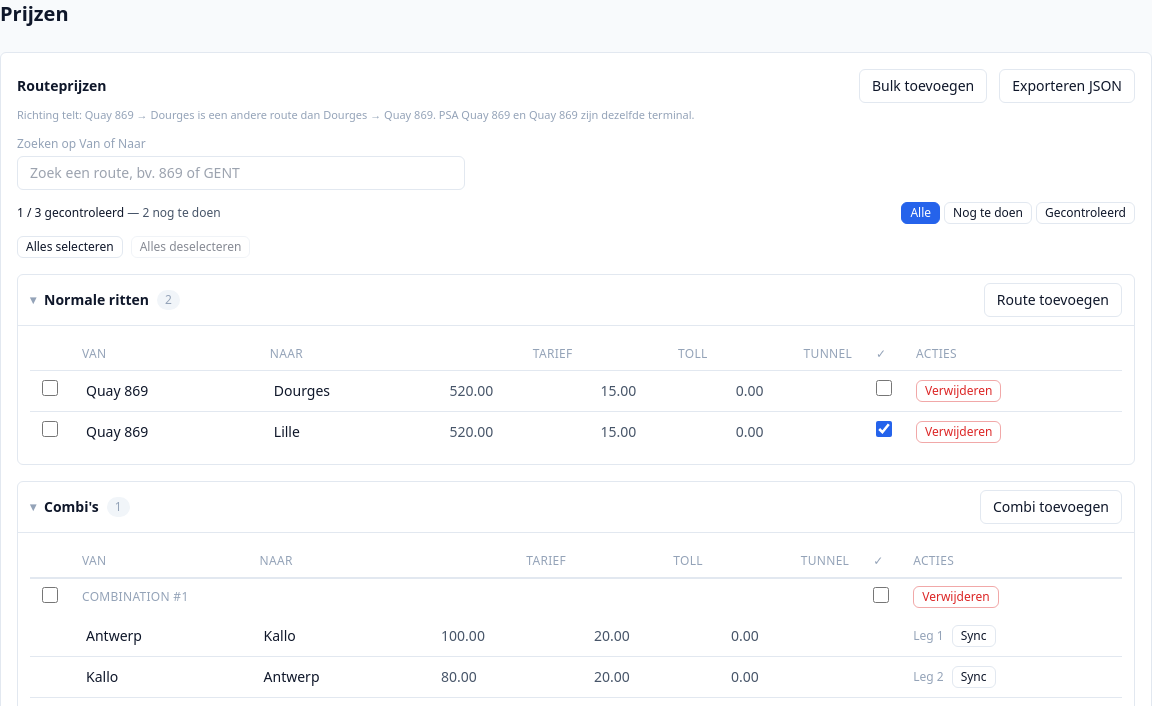
Test case: selecting › selects only what the filter shows
expect the button "Lille" is shown: met, box [270,420,422,444]
Click the button "Gecontroleerd" at x=1086, y=212, box [1036,202,1135,224]
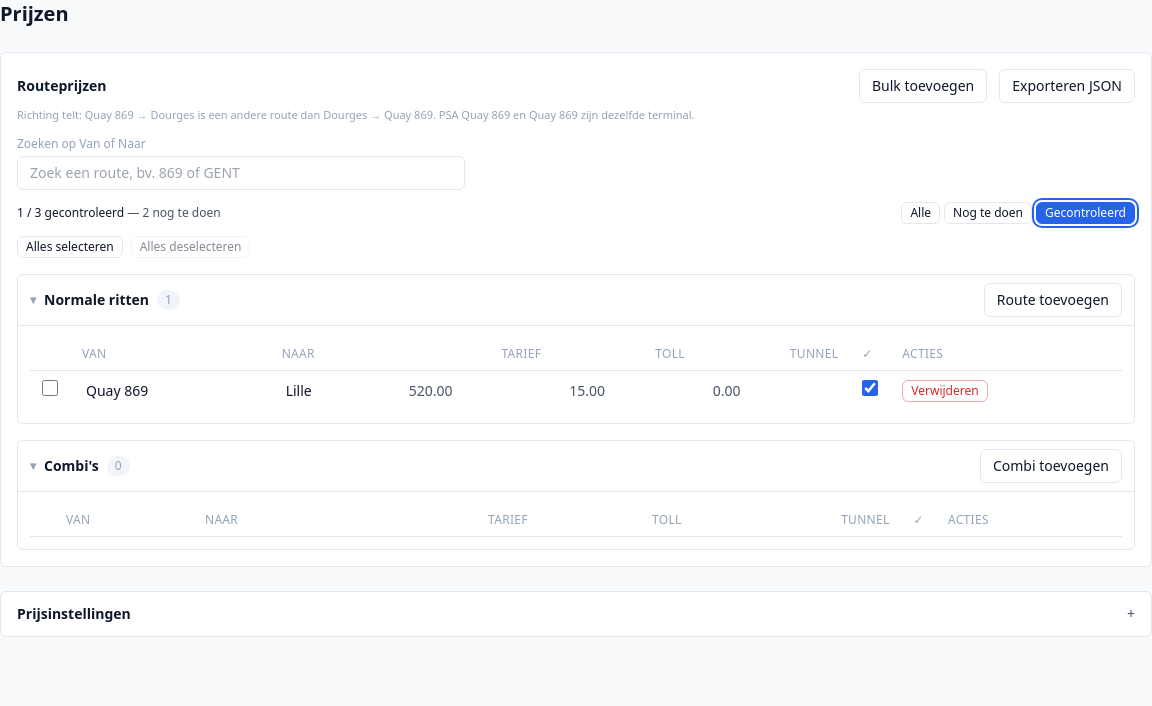
Click the button "Alles selecteren" at x=70, y=246, box [17,236,123,258]
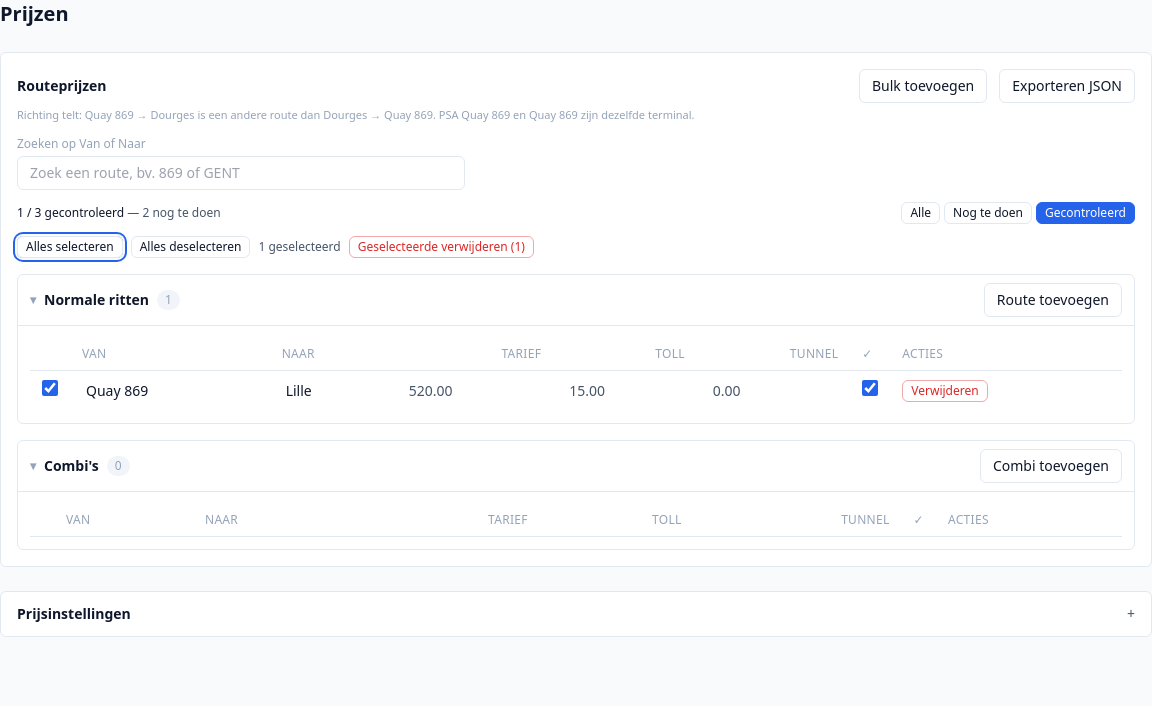
expect the button "Geselecteerde verwijderen (1)" is shown: met, box [349,236,534,258]
